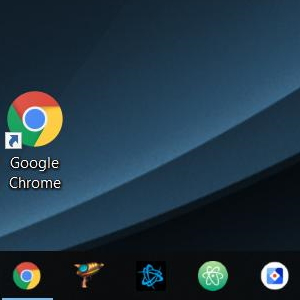chrome: (4, 91, 63, 150), (11, 261, 40, 290)
